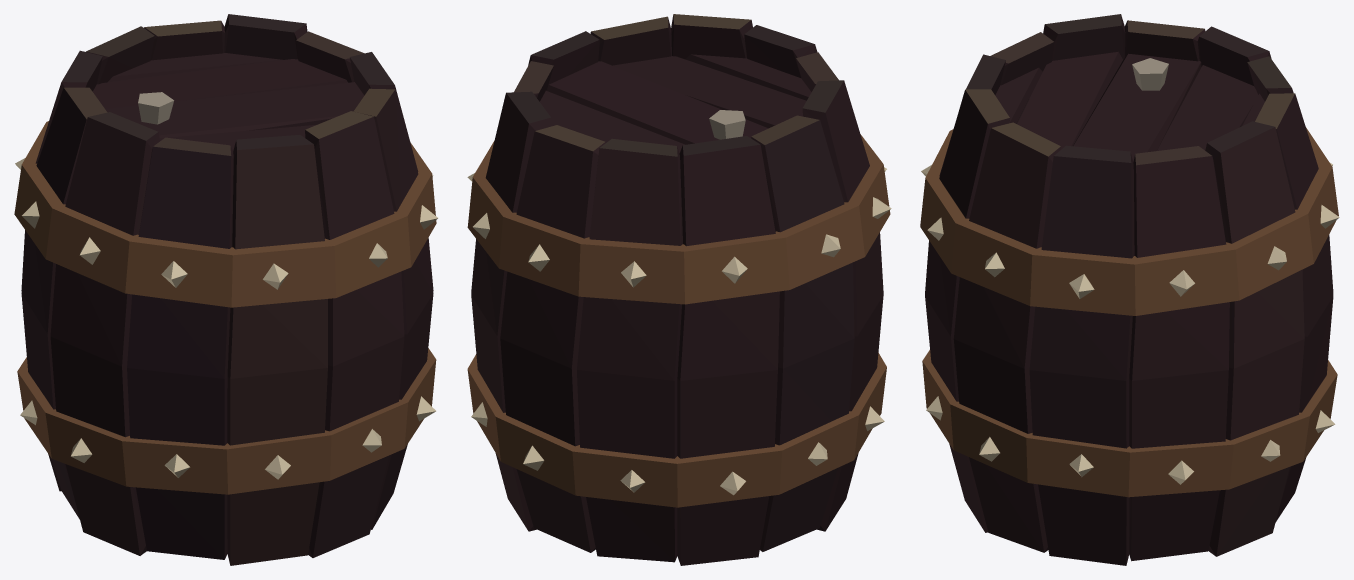
Rendered from Barrel.obj.
3 views of the same model, side by side, from view 1: azimuth 30°, elevation 25°; view 2: azimuth 150°, elevation 25°; view 3: azimuth 270°, elevation 25° (orthographic).
Parts seen in each view (by area): view 1: Barrel; view 2: Barrel; view 3: Barrel.
Part boxes in pixels (bbox=[...]): Barrel: bbox=[14, 14, 438, 565]; Barrel: bbox=[467, 14, 891, 565]; Barrel: bbox=[920, 14, 1339, 565].
Bounding box in the file's own units: 12.81 × 14.03 × 12.84.
